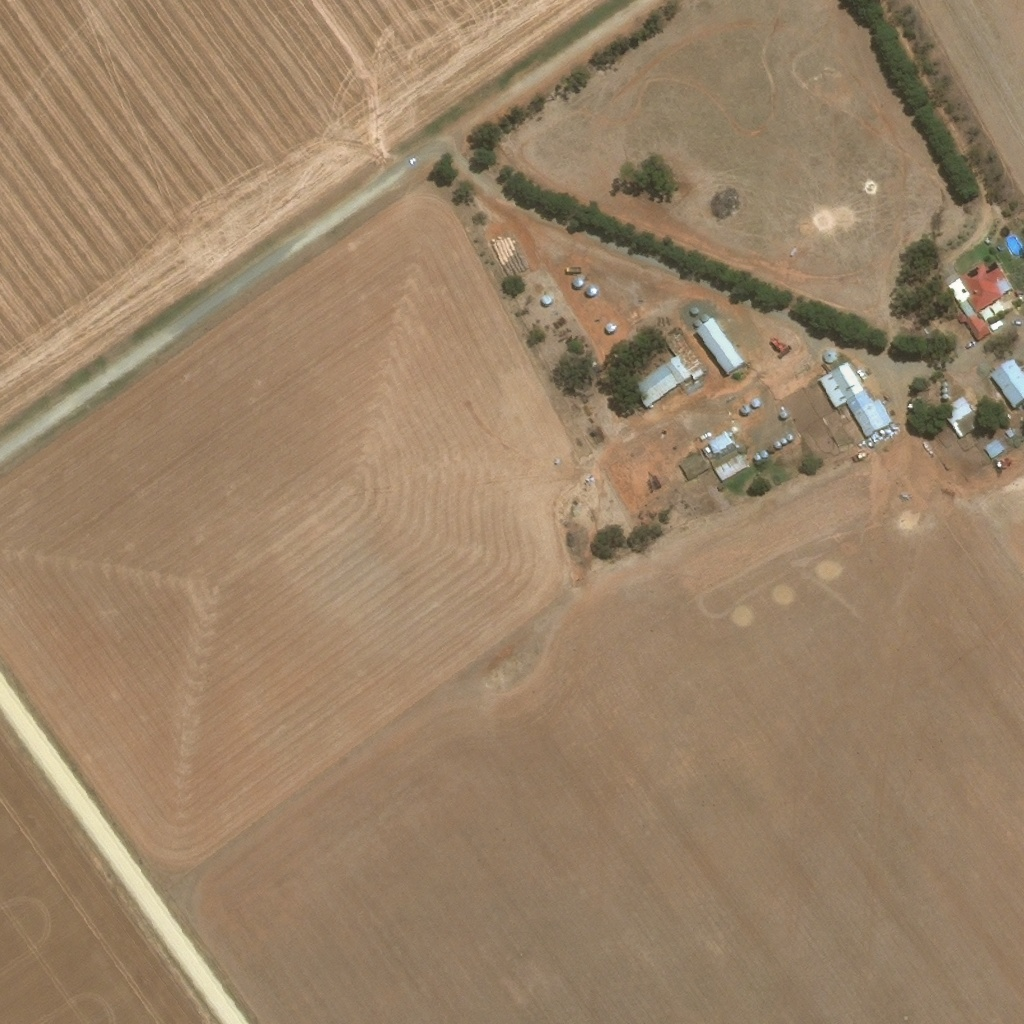0 no-damage: (818, 358, 892, 440), (946, 260, 1012, 344), (678, 432, 749, 486), (630, 356, 692, 412), (696, 317, 745, 376), (938, 396, 982, 444), (664, 333, 704, 383), (990, 358, 1023, 410), (815, 381, 837, 413), (957, 423, 982, 444), (983, 440, 1005, 461), (774, 432, 794, 452), (940, 380, 950, 400), (822, 350, 836, 364), (777, 407, 790, 422), (753, 450, 768, 463), (1003, 428, 1016, 442), (747, 397, 759, 410), (539, 296, 551, 307), (739, 405, 750, 417), (604, 324, 614, 335), (689, 308, 699, 318), (692, 320, 701, 329), (700, 315, 709, 324), (982, 238, 990, 246)
4 un-classified: (163, 220, 176, 233), (680, 562, 693, 575), (588, 307, 600, 319), (596, 317, 607, 327)
